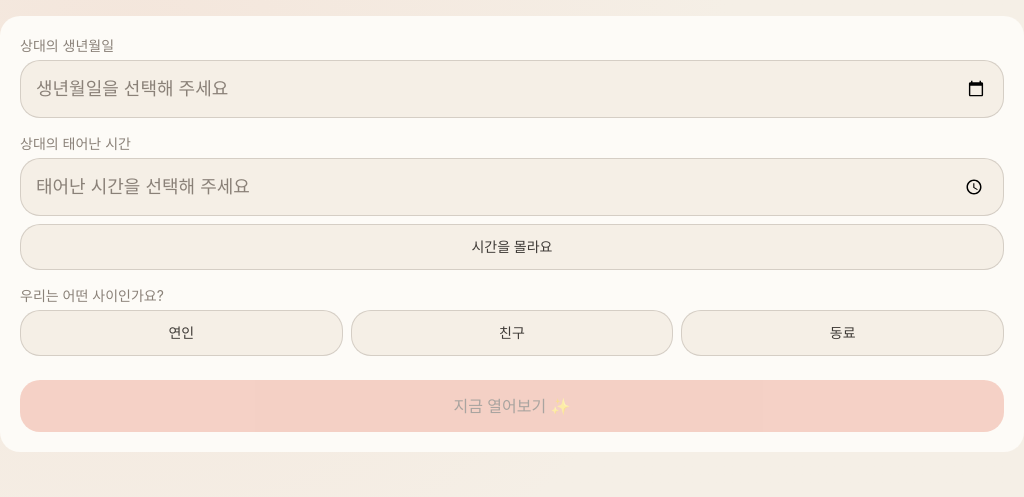
Scenario: MatchDeepForm (익명 로컬) › 실패 — 부드러운 안내
Type "1992-03-10" into the date field labelled "상대의 생년월일 생년월일을 선택해 주세요" at (512,89), box [20,60,1004,118]
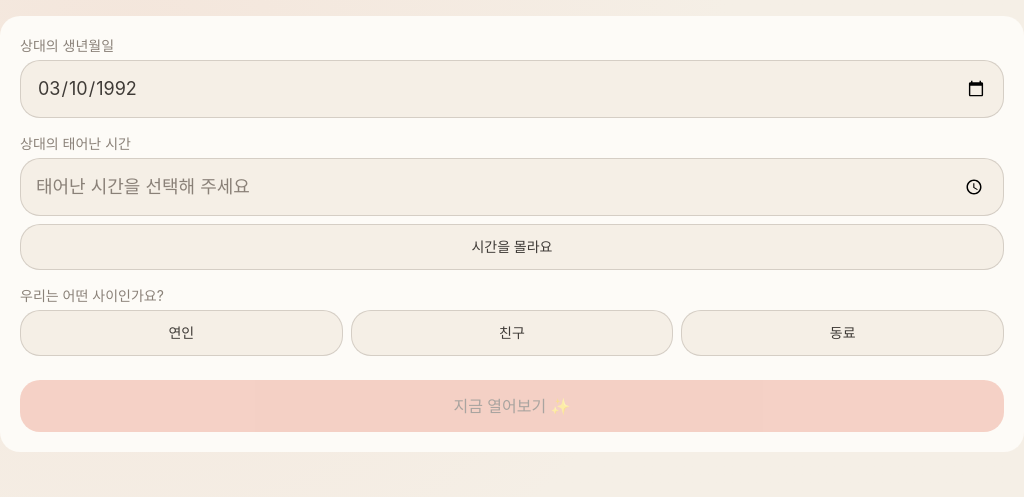
Click the button "시간을 몰라요" at (512,247), box [20,224,1004,270]
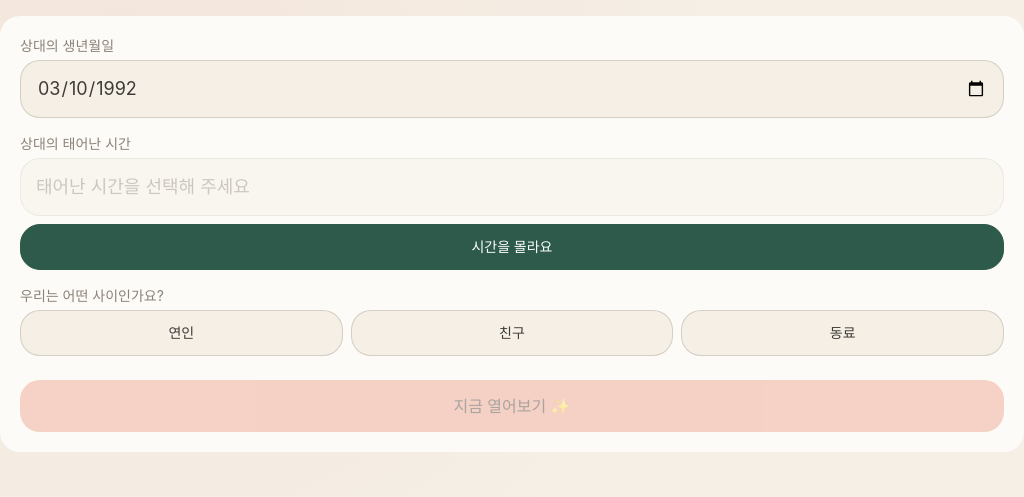
Click the button "연인" at (181,333), box [20,310,343,356]
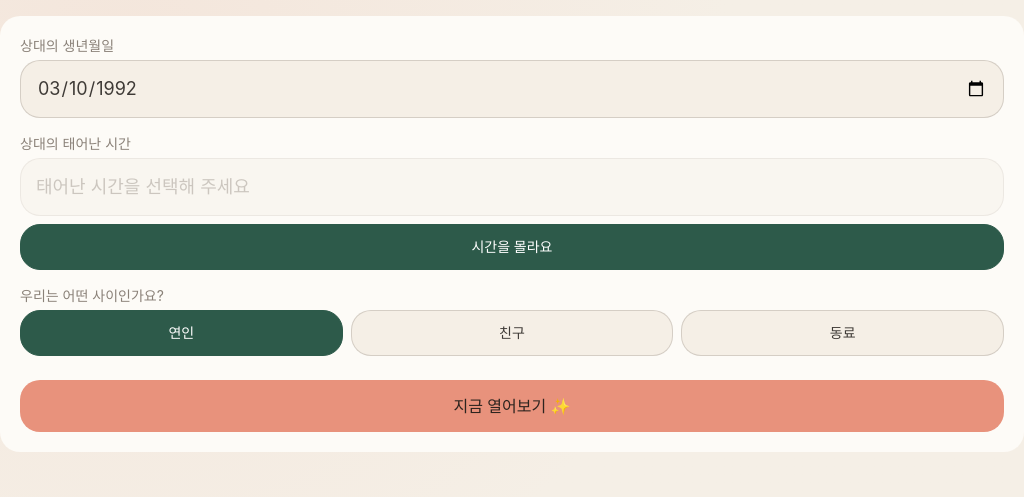
Click the button "지금 열어보기 ✨" at (512,406), box [20,380,1004,432]
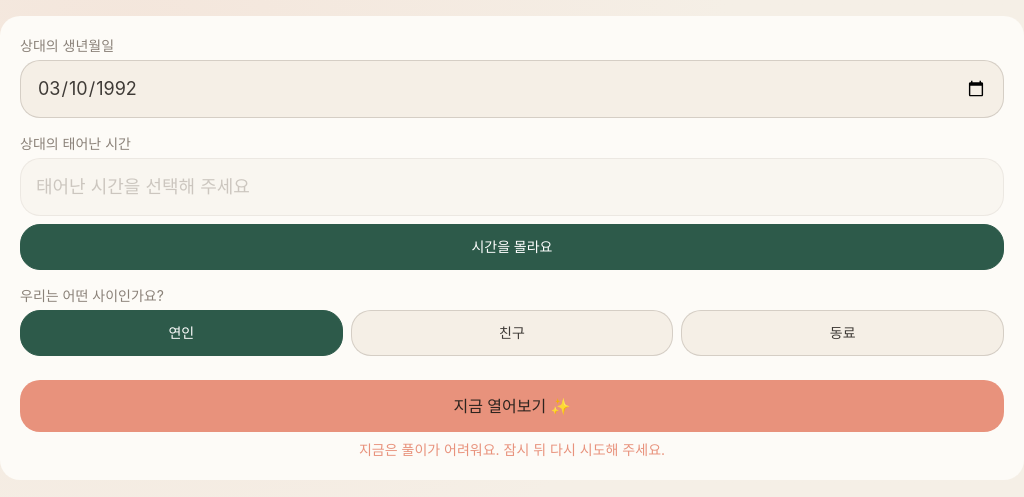
Expected: the text "지금은 풀이가 어려워요. 잠시 뒤 다시 시도해 주세요." is shown, [359,441,665,458]
